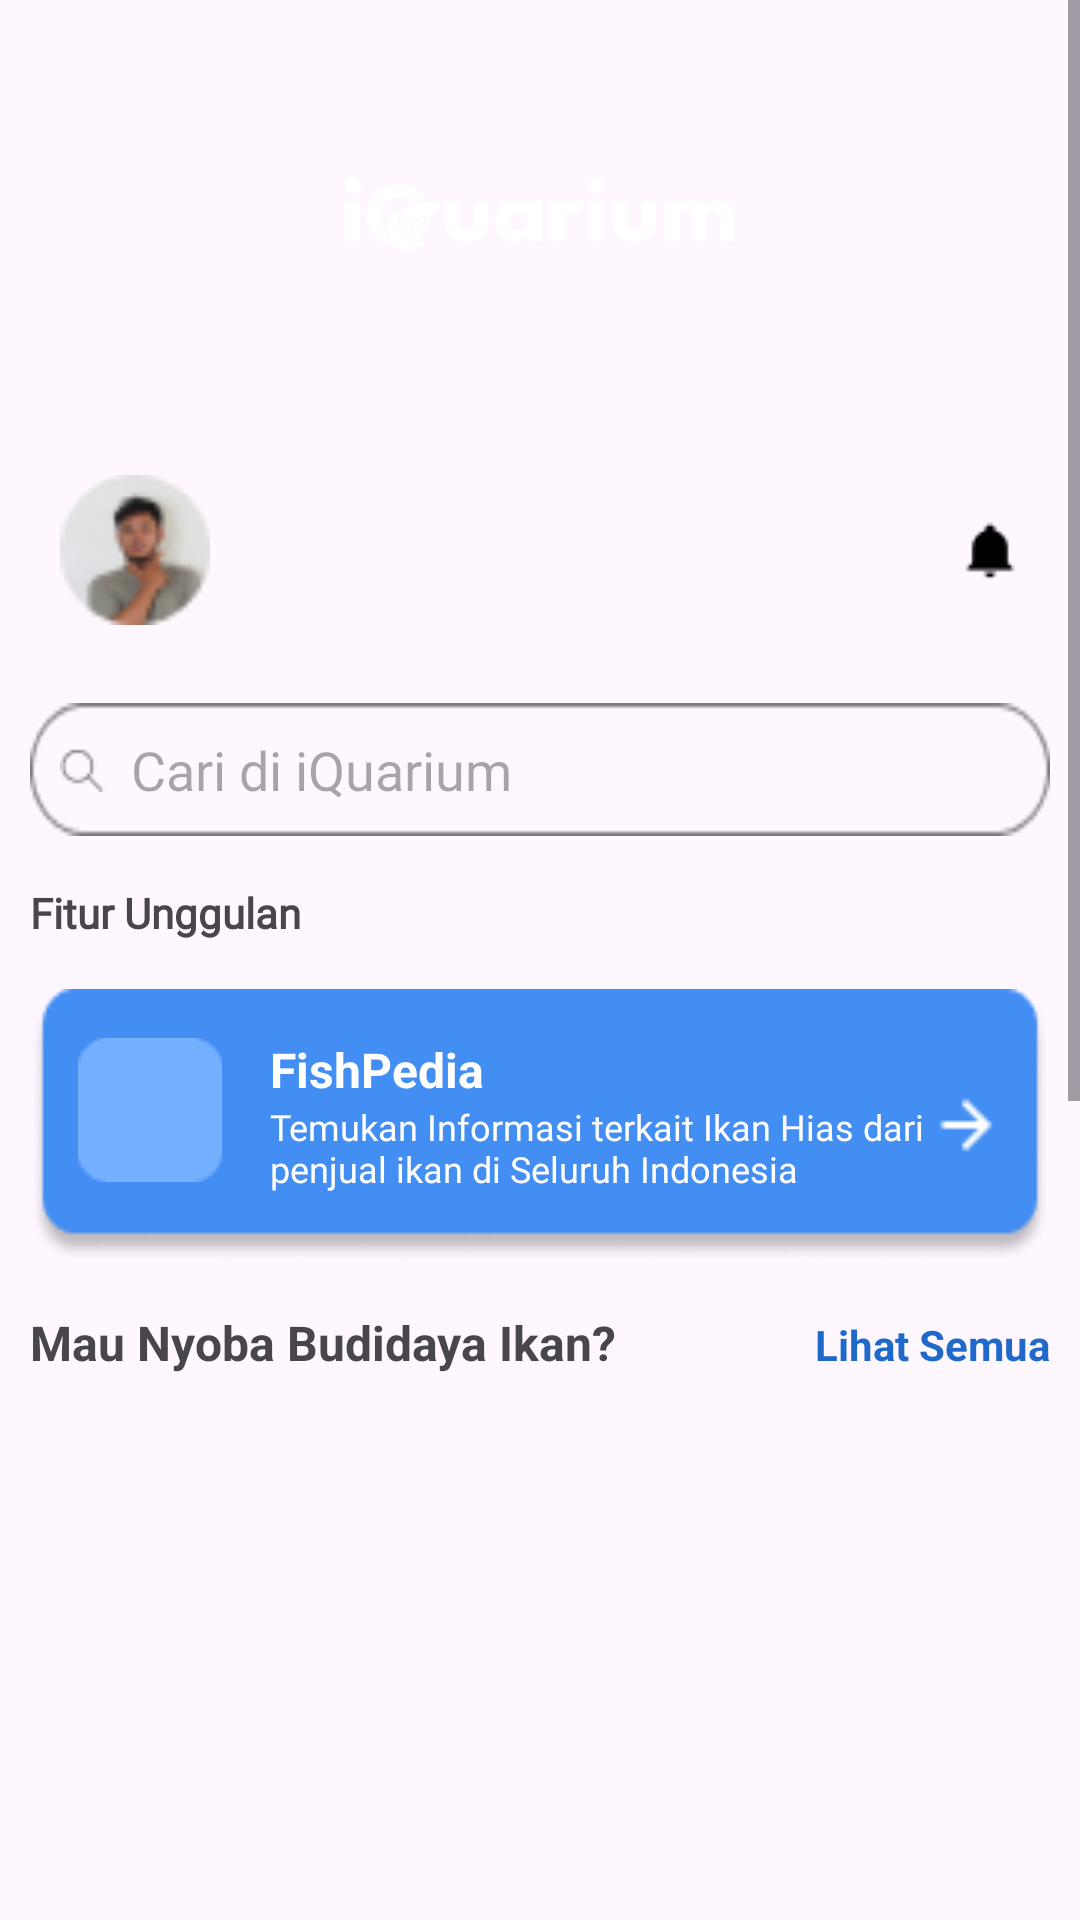

Screen size 1080w x 1920h. Icon name, then its box in pixels as (x1, y1, x2, y2):
Arrow Icon: (940, 1099, 992, 1151)
Notification Icon: (965, 523, 1015, 578)
Profile Image: (60, 475, 210, 625)
